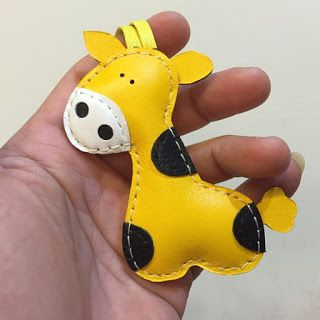cuero: (64, 30, 267, 281)
